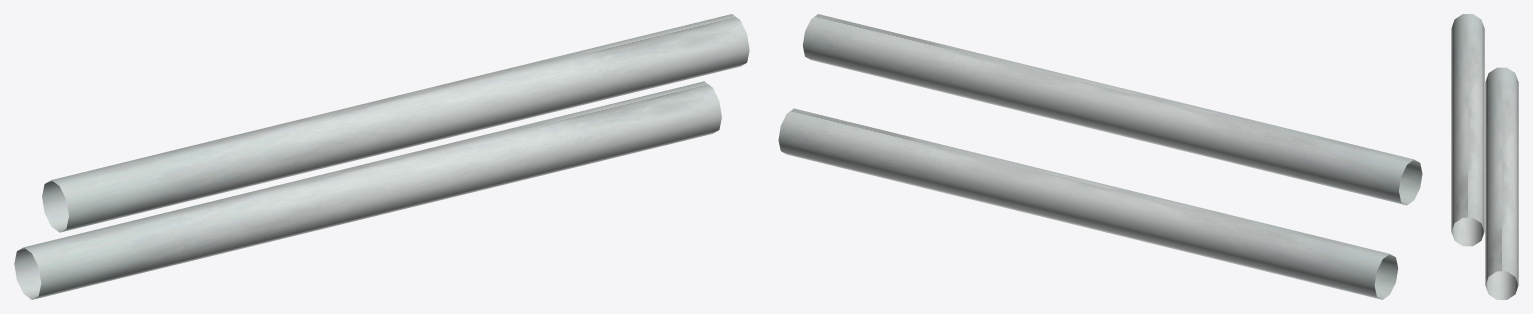
Rendered from light_01.fbx.
The picture shows the model from 3 angles, left to right: view 1: azimuth 30°, elevation 25°; view 2: azimuth 150°, elevation 25°; view 3: azimuth 270°, elevation 25°; orthographic projection. The views are drawn at different scales.
Visible parts, largest first — view 1: Object011; view 2: Object011; view 3: Object011.
Boxes of the visible parts, x1,y1,x2,y2 form: Object011: (14, 14, 749, 299); Object011: (778, 14, 1422, 299); Object011: (1451, 14, 1518, 299).
Bounding box in the file's own units: 224 × 42.15 × 31.17.
